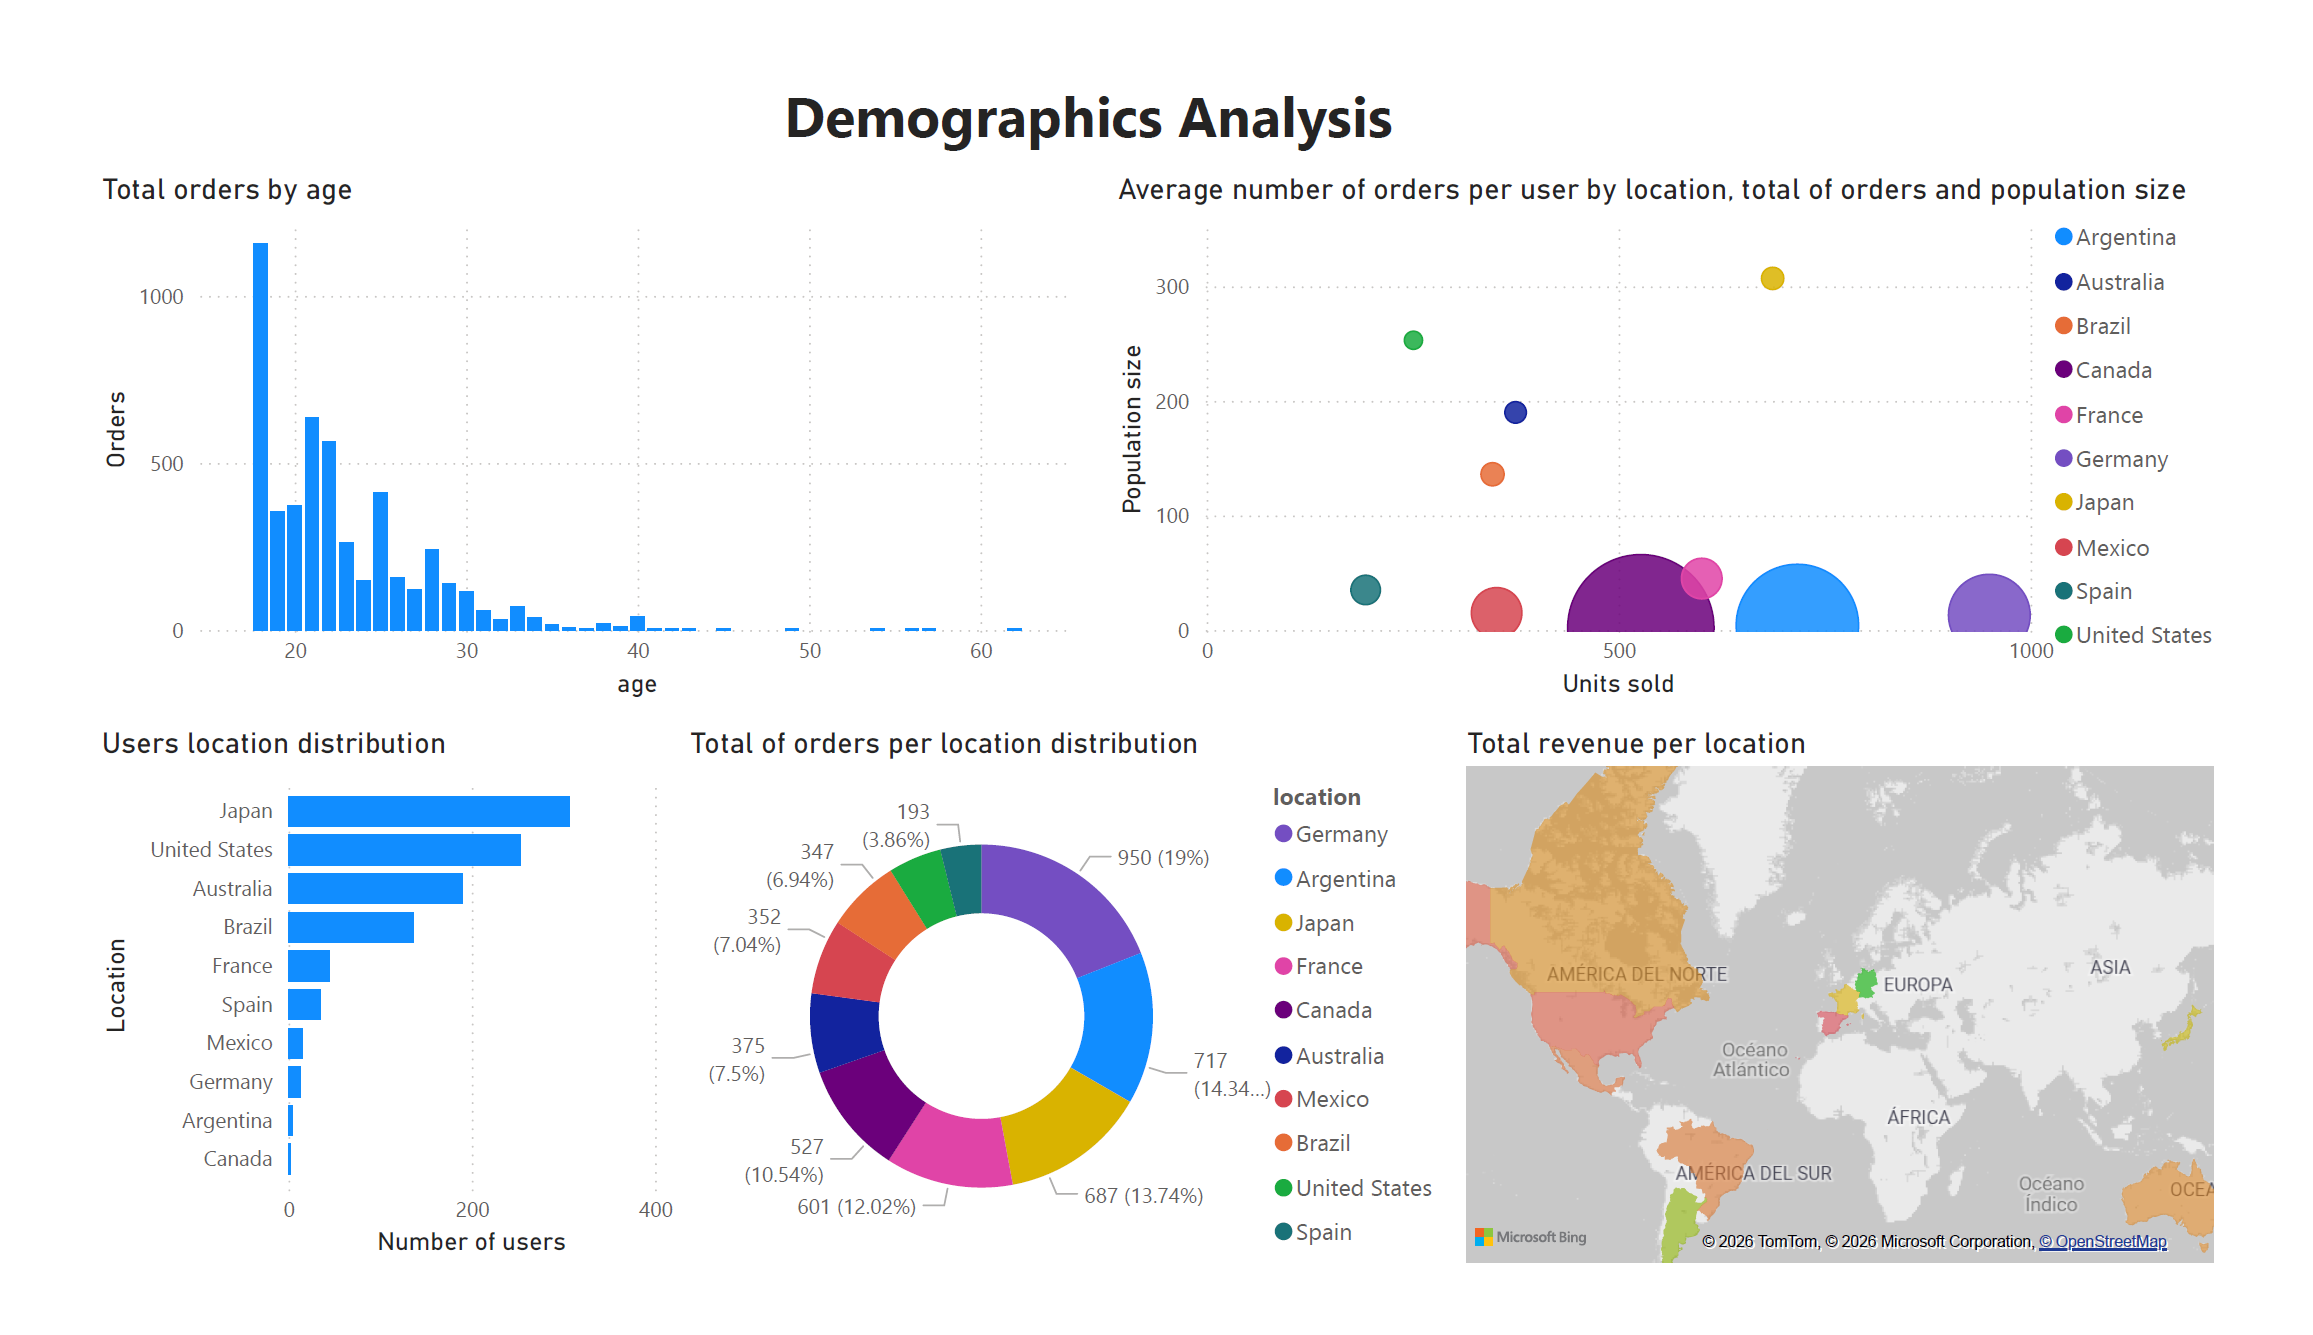

The dashboard page shown, as its layout file describes it:
{"tool":"powerbi","page":{"name":"demographics analysis","canvas":[1280,720],"ordinal":1},"visuals":[{"type":"barChart","title":"Users location distribution","fields":{"Category":["online_store users_loc_distribution.location"],"Y":["Sum(online_store users_loc_distribution.n_users)"]},"box":[31.1,392.7,337,309.7],"z":0},{"type":"donutChart","title":"Total of orders per location distribution","fields":{"Category":["online_store origin_of_orders_loc.location"],"Y":["Sum(online_store origin_of_orders_loc.n_orders)"]},"box":[368.1,392.7,444.5,314.9],"z":1000},{"type":"textbox","box":[388.8,16.3,424.1,59.8],"z":2000},{"type":"scatterChart","title":"Average number of orders per user by location, total of orders and population size","fields":{"X":["online_store origin_of_orders_loc.n_orders"],"Series":["online_store origin_of_orders_loc.location"],"Y":["online_store origin_of_orders_loc.pop_size"],"Size":["Sum(online_store origin_of_orders_loc.n_orders_per_hab)"]},"box":[613,76.5,646.7,305.9],"z":3000},{"type":"filledMap","title":"Total revenue per location","fields":{"Category":["online_store origin_of_revenue_loc.location"]},"box":[812.6,392.7,438,313.6],"z":4000},{"type":"columnChart","title":"Total orders by age","fields":{"Category":["online_store orders_by_age.age"],"Y":["Sum(online_store orders_by_age.n_orders)"]},"box":[31.1,76.5,570.2,305.9],"z":5000}]}

Visuals, with their boxes in screenshot pixels (x1, y1, x2, y2), scaled from the page's 1280x720 canvas onto the 2313x1335 screenshot:
"Users location distribution" barChart: <box>56,728,665,1302</box>
"Total of orders per location distribution" donutChart: <box>665,728,1468,1312</box>
textbox: <box>703,30,1469,141</box>
"Average number of orders per user by location, total of orders and population size" scatterChart: <box>1108,142,2276,709</box>
"Total revenue per location" filledMap: <box>1468,728,2260,1310</box>
"Total orders by age" columnChart: <box>56,142,1087,709</box>
